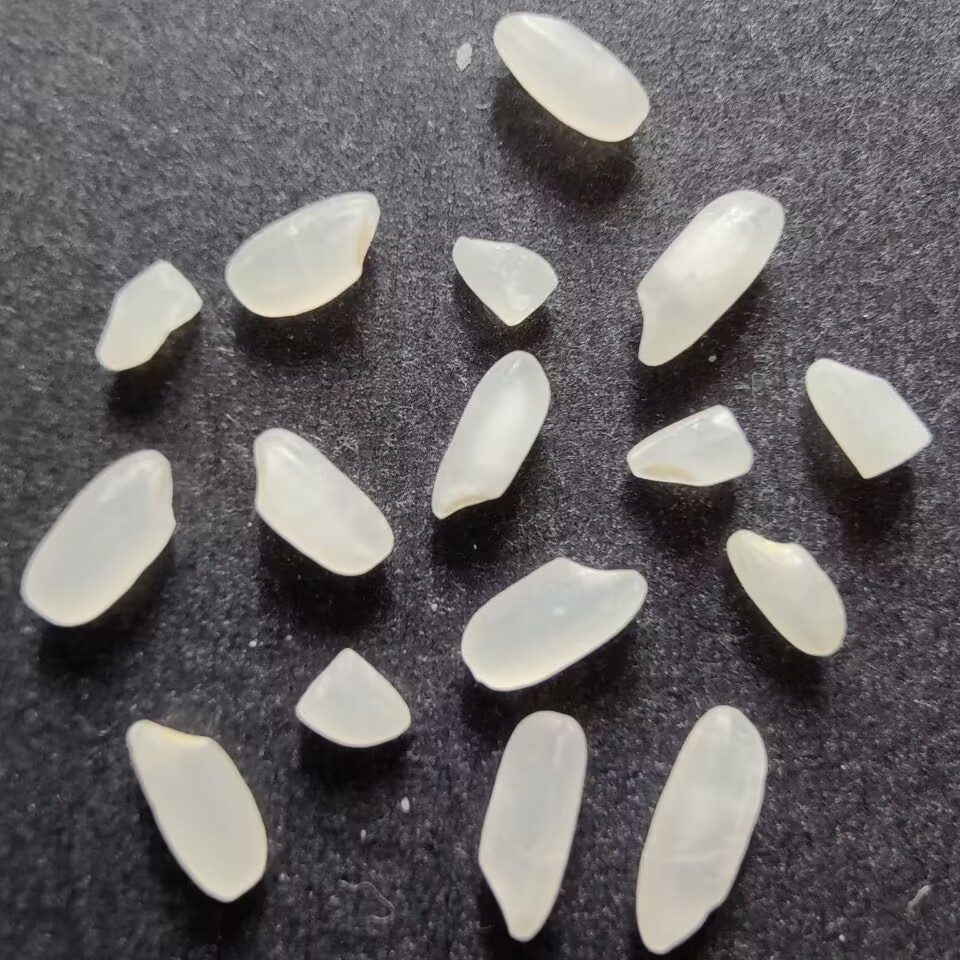broken: (803, 354, 937, 485), (93, 256, 206, 380), (290, 643, 413, 751), (622, 400, 760, 488), (447, 230, 562, 329)
rice: (635, 699, 772, 959), (19, 443, 182, 634), (630, 185, 786, 370), (455, 553, 653, 697), (122, 716, 271, 907), (474, 706, 589, 943), (249, 424, 398, 581), (426, 342, 554, 520), (489, 8, 656, 144), (221, 189, 385, 322), (722, 525, 852, 660)
